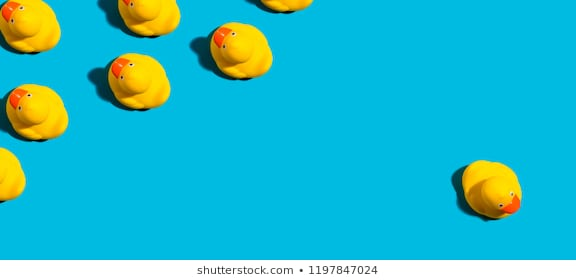duck: (442, 145, 542, 227)
